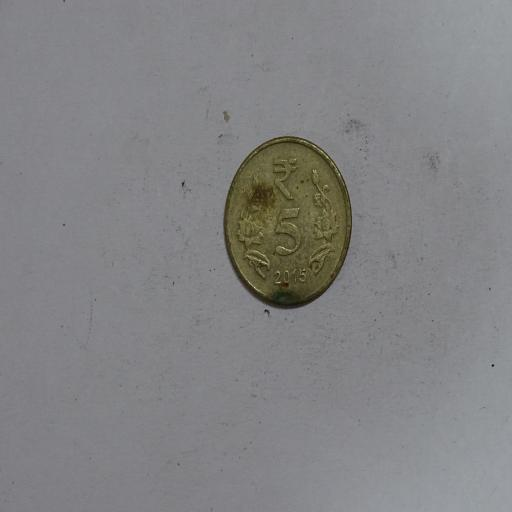rupee5: (221, 135, 352, 309)
